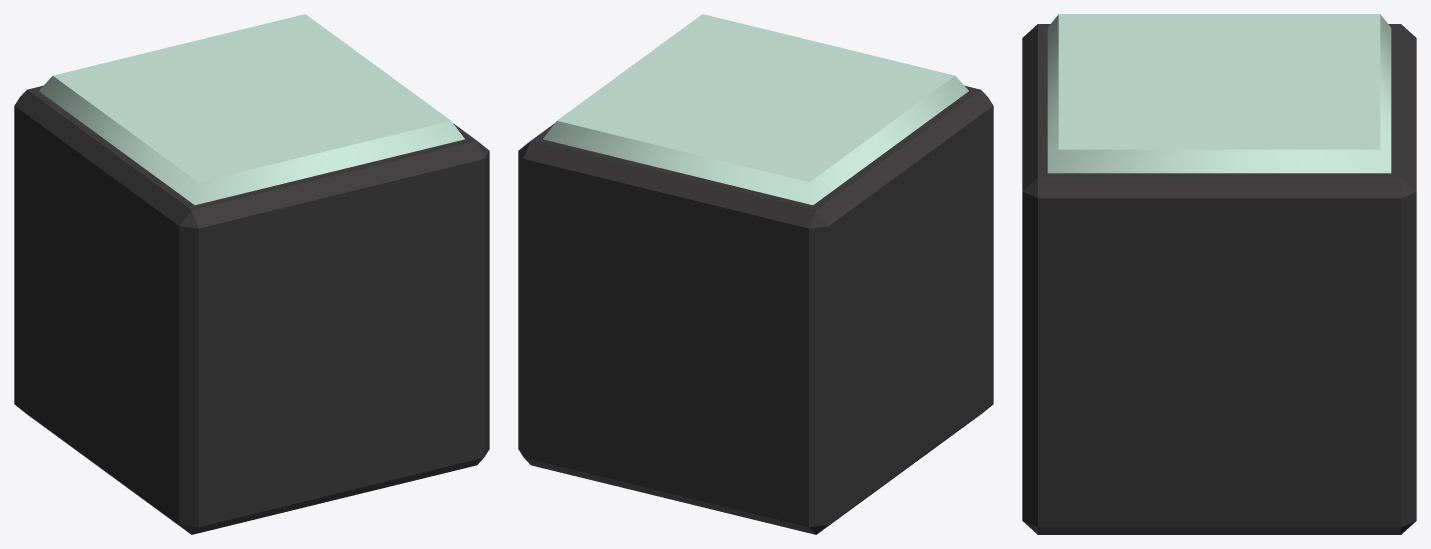
File: winter-cube-small-v2.glb
The picture shows the model from 3 angles, left to right: view 1: azimuth 30°, elevation 25°; view 2: azimuth 150°, elevation 25°; view 3: azimuth 270°, elevation 25°; orthographic projection. The views are drawn at different scales.
Visible parts, largest first — view 1: WinterCubeSmall_v2; view 2: WinterCubeSmall_v2; view 3: WinterCubeSmall_v2.
Part boxes in pixels (bbox=[...]): WinterCubeSmall_v2: bbox=[14, 14, 489, 534]; WinterCubeSmall_v2: bbox=[518, 14, 993, 534]; WinterCubeSmall_v2: bbox=[1022, 14, 1416, 534].
Bounding box in the file's own units: 100 × 105 × 100.
Materials: 1 (1 with a texture image).
